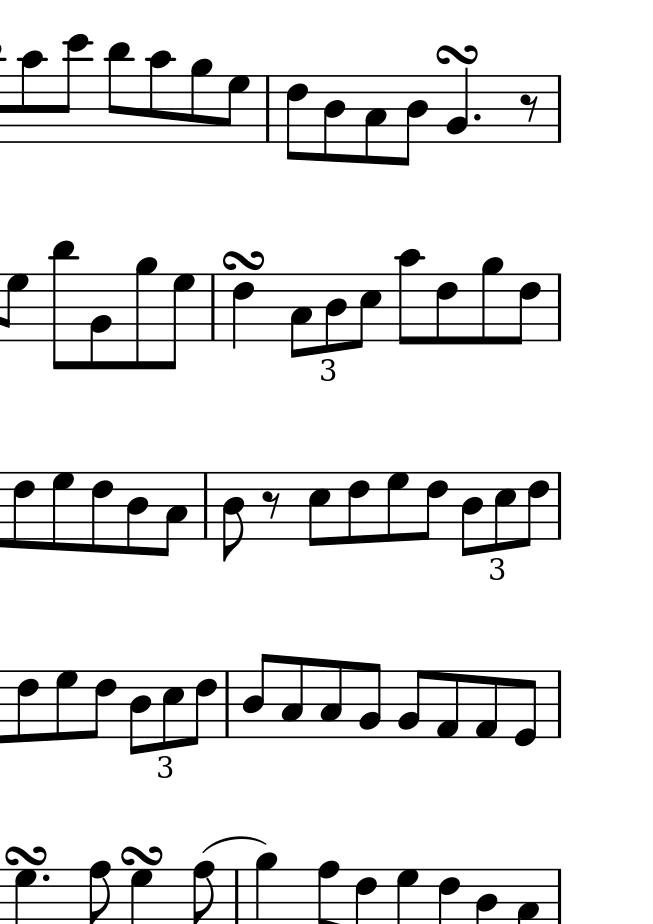3: (487, 554, 506, 584), (154, 754, 175, 780), (319, 356, 338, 384)
4_2: (442, 67, 470, 145)
4_6: (229, 272, 258, 350)
8_0: (512, 669, 540, 750)
8_1: (473, 670, 501, 741), (434, 670, 461, 740)
8_10: (396, 248, 426, 347), (146, 49, 175, 145), (19, 50, 45, 144)
8_11: (50, 239, 77, 372), (104, 40, 134, 144)
8_12: (57, 34, 92, 146)
8_2: (88, 272, 111, 371), (398, 669, 428, 739), (356, 663, 383, 740)
8_3: (156, 471, 190, 557), (361, 73, 388, 167), (287, 271, 313, 360), (280, 655, 307, 739), (320, 659, 345, 740)
8_4: (399, 73, 430, 167), (240, 652, 272, 740), (220, 471, 247, 565), (320, 74, 346, 164), (124, 470, 150, 555), (126, 670, 151, 758), (460, 471, 483, 561), (322, 272, 346, 355)
8_5: (493, 470, 518, 552), (355, 272, 381, 348), (306, 470, 331, 548), (161, 670, 183, 752)
8_6: (85, 668, 118, 740), (284, 74, 310, 163), (521, 471, 550, 547), (188, 670, 217, 745), (513, 272, 541, 348), (89, 470, 114, 555), (9, 470, 35, 549), (421, 472, 449, 541), (13, 670, 39, 744), (434, 272, 459, 348), (345, 470, 370, 546)
8_7: (165, 273, 193, 373), (50, 471, 76, 552), (225, 74, 251, 142), (54, 669, 78, 742), (386, 469, 409, 545)
8_9: (133, 256, 158, 371), (188, 57, 216, 144), (478, 256, 504, 348)
Rests8: (261, 488, 283, 521), (520, 92, 542, 124)
Slur: (546, 75, 575, 143), (205, 271, 226, 341), (549, 271, 569, 343), (550, 669, 569, 740), (219, 669, 238, 738), (197, 470, 214, 540), (550, 471, 567, 540)
Turn: (220, 246, 266, 274), (437, 39, 478, 68), (117, 843, 164, 868), (5, 841, 48, 867)
dot: (41, 871, 52, 884), (471, 111, 482, 123)
